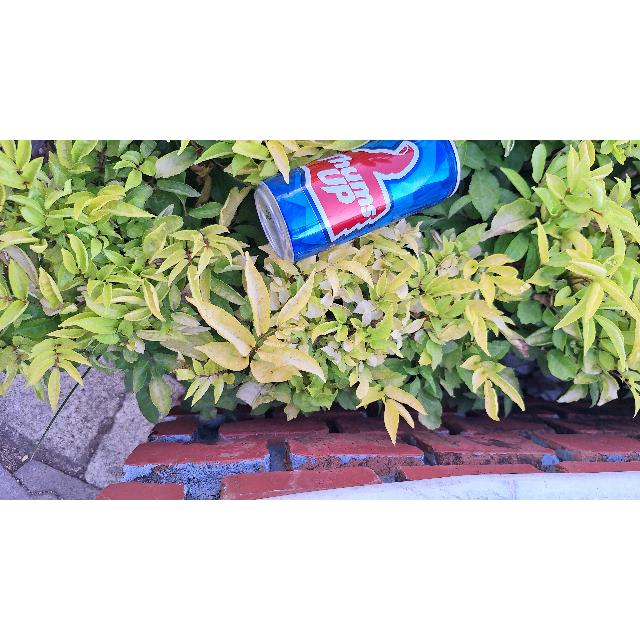Thums Up: (256, 140, 468, 264)
